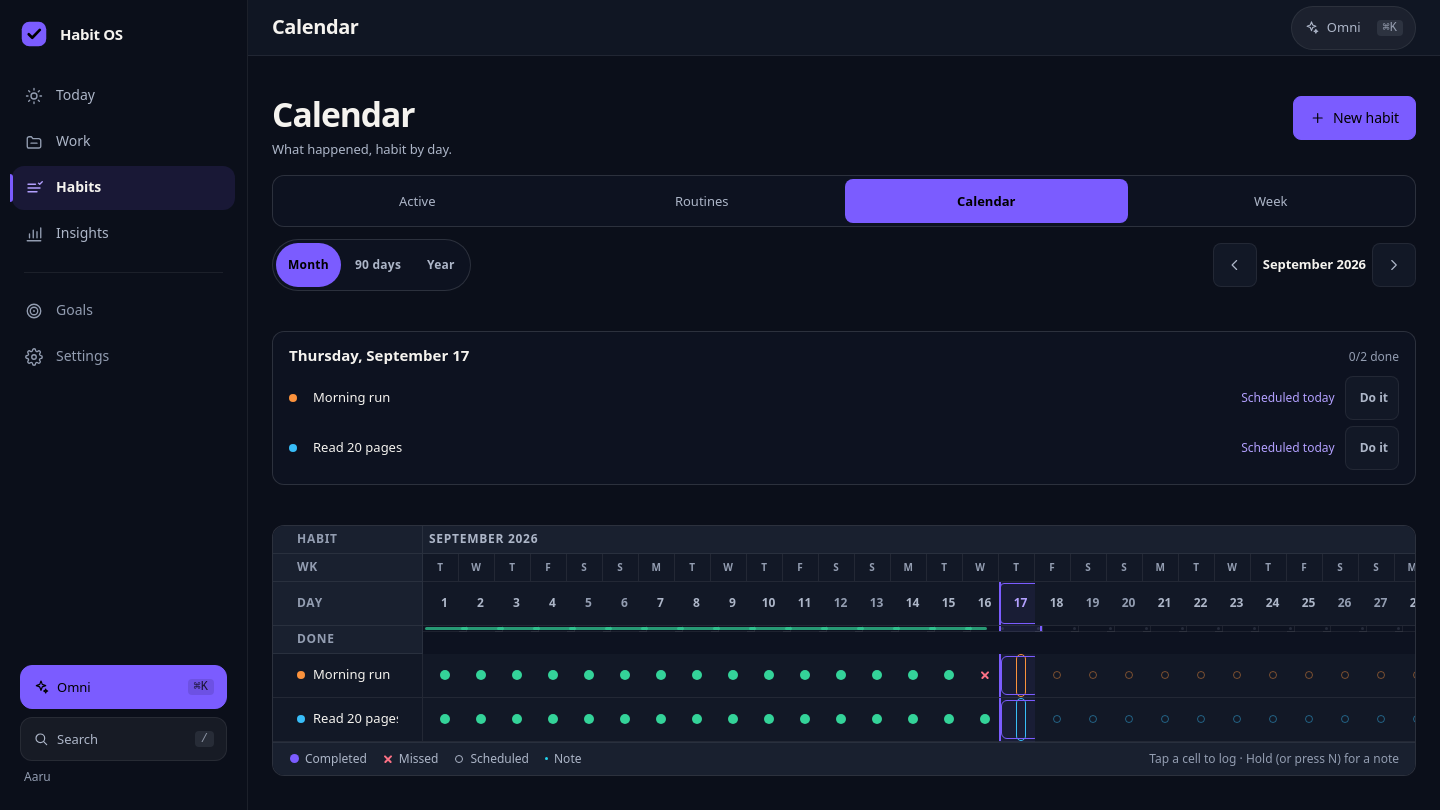
it: habit calendar (Step 4D) › tapping a cell selects that day and toggles completion
Expected: the table named "habit activity" is shown, [273,526,1415,743]
Click the button named "Mark Morning run as complete, Wednesday, September 16": (985,676) [963,654,1007,698]
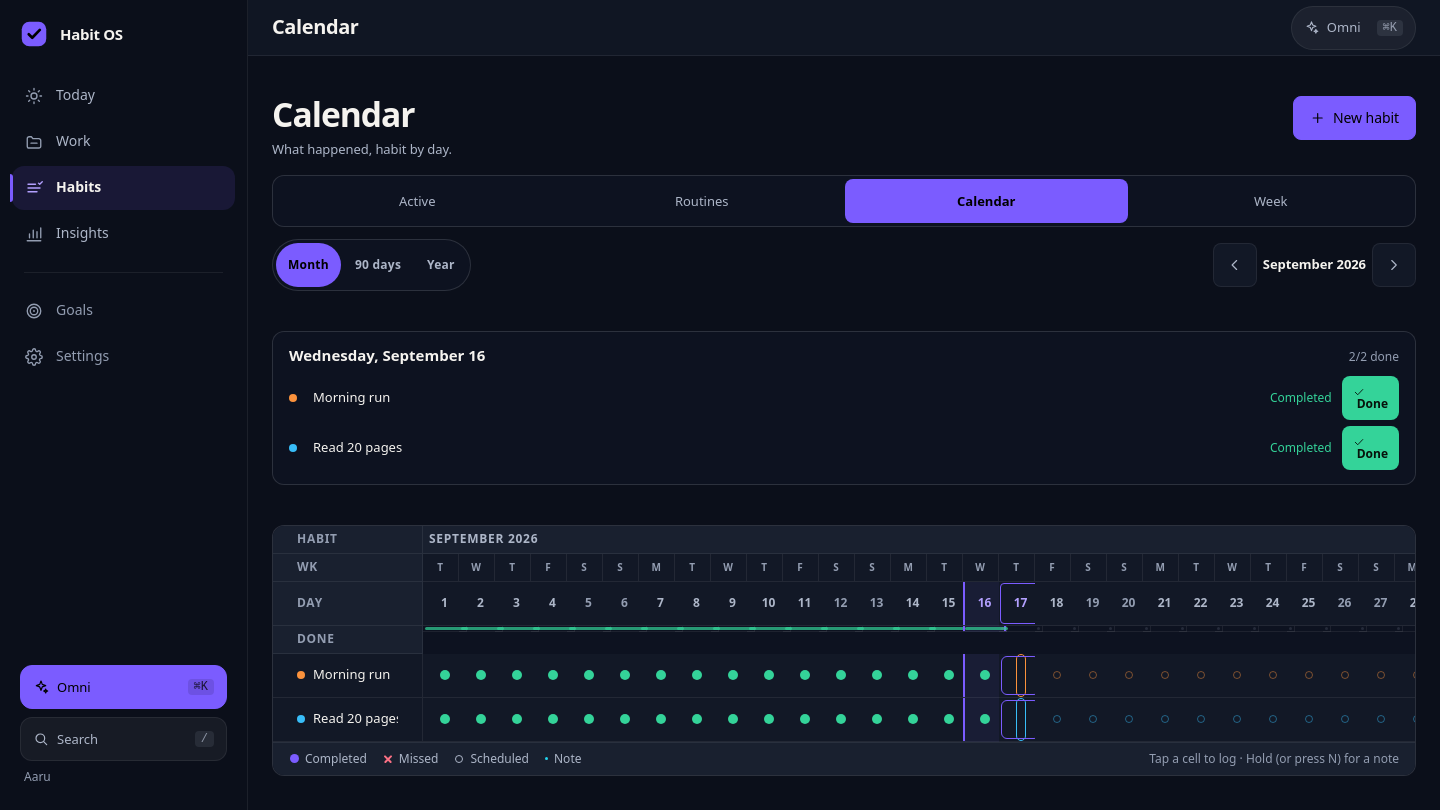
Result: the heading "Wednesday, September 16" is shown at [289,346,485,366]
